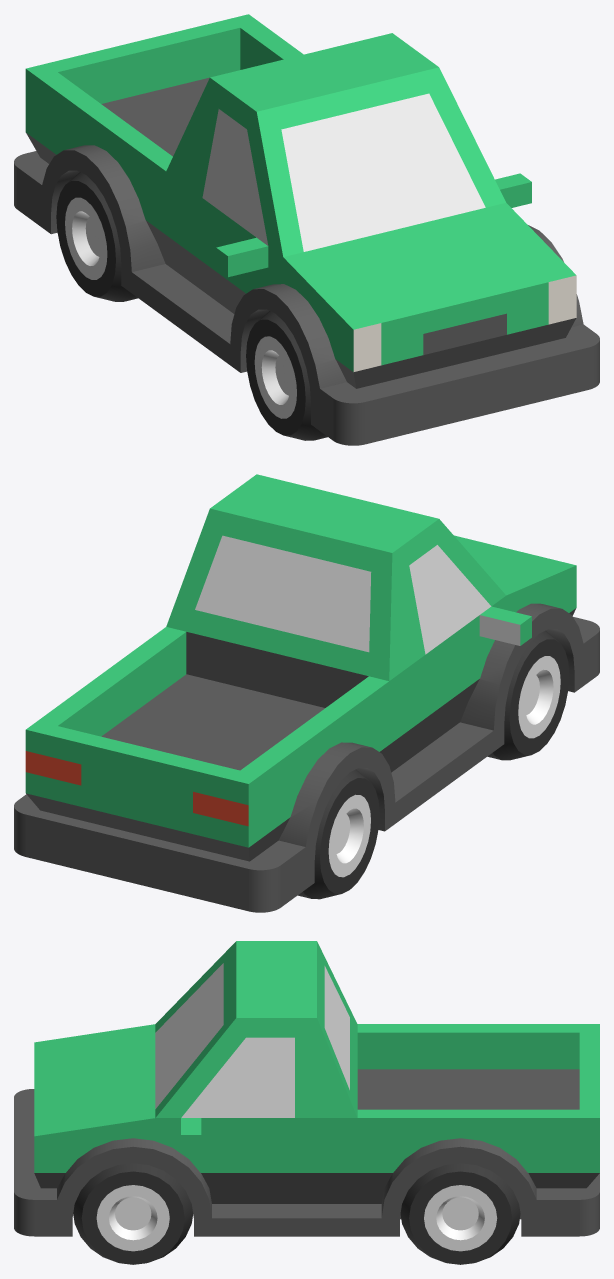
Rendered from truck.fbx.
The picture shows the model from 3 angles, top to bottom: view 1: azimuth 30°, elevation 25°; view 2: azimuth 150°, elevation 25°; view 3: azimuth 270°, elevation 25°; orthographic projection. The views are drawn at different scales.
Visible parts, largest first — view 1: body, wheel_backRight, wheel_frontRight; view 2: body, wheel_backRight, wheel_frontRight; view 3: body, wheel_backLeft, wheel_frontLeft.
Boxes of the visible parts, <box> form: body: <box>14,14,599,445</box>; wheel_backRight: <box>56,172,137,301</box>; wheel_frontRight: <box>246,311,327,440</box>; body: <box>14,474,599,912</box>; wheel_backRight: <box>298,769,379,899</box>; wheel_frontRight: <box>487,630,569,760</box>; body: <box>14,941,599,1236</box>; wheel_backLeft: <box>400,1163,520,1264</box>; wheel_frontLeft: <box>73,1163,192,1264</box>.
Bounding box in the file's own units: 15 × 13 × 29.
